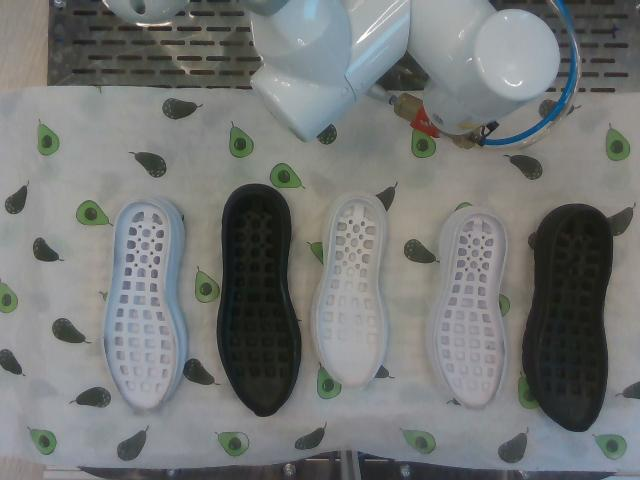shoes: (538, 209, 611, 431), (222, 193, 294, 416), (104, 201, 176, 414), (436, 213, 507, 410), (318, 199, 383, 389)
